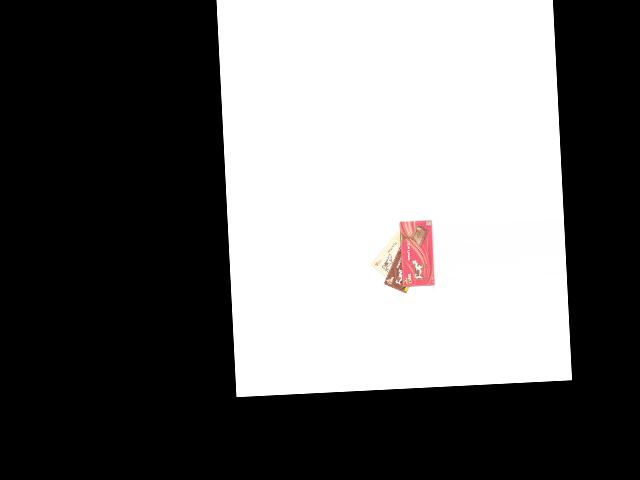chocolate: (368, 223, 408, 285)
